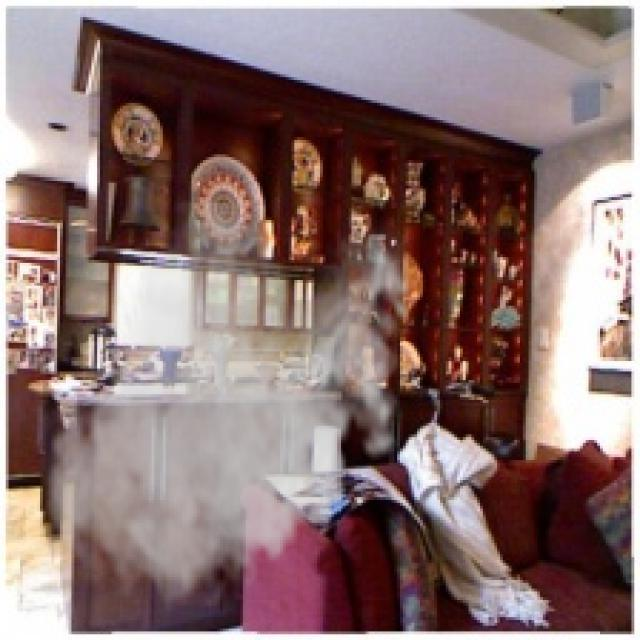Smoke: (37, 197, 423, 617)
